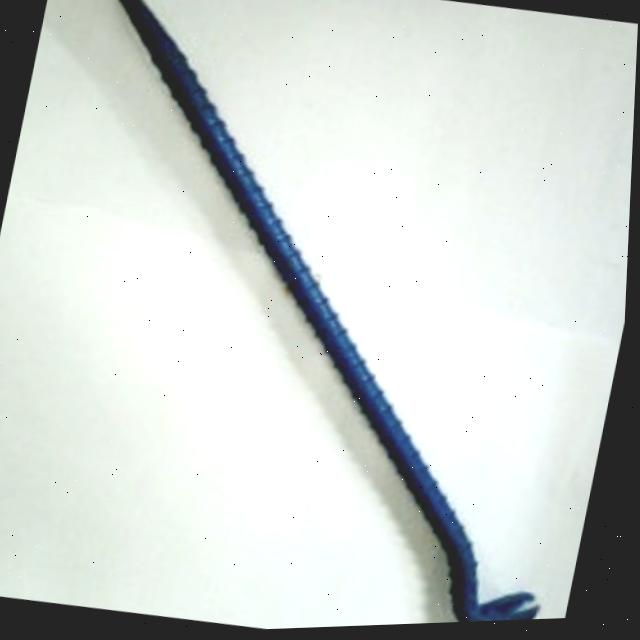crow bar: (117, 0, 540, 626)
